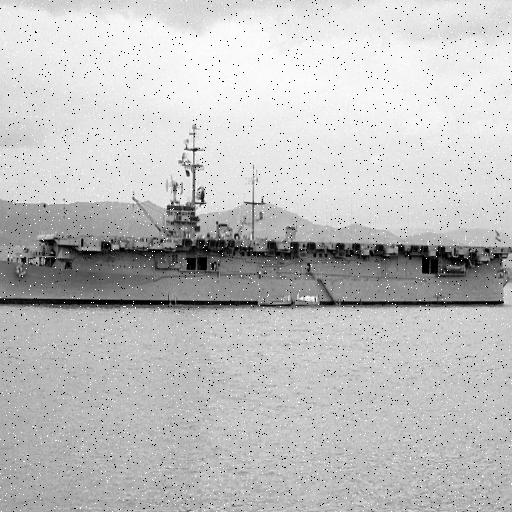Portanaves: (1, 111, 512, 309)
